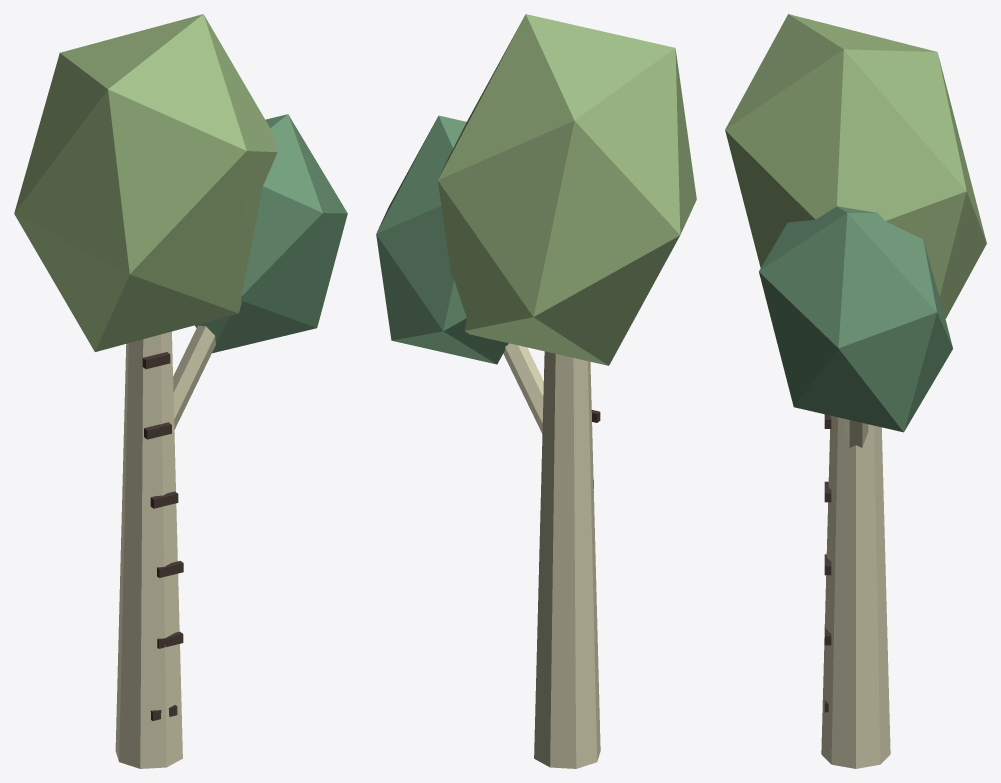
Rendered from briza.glb.
3 renders of one model, left to right at view 1: azimuth 30°, elevation 25°; view 2: azimuth 150°, elevation 25°; view 3: azimuth 270°, elevation 25°, orthographic.
Visible parts, largest first — view 1: material_9ebc85, material_ddd9b8, material_6d9978, material_483b36; view 2: material_9ebc85, material_ddd9b8, material_6d9978; view 3: material_9ebc85, material_6d9978, material_ddd9b8, material_483b36.
Boxes of the visible parts, x1=… form: material_9ebc85: x1=14, y1=14, x2=277, y2=351; material_ddd9b8: x1=115, y1=325, x2=215, y2=768; material_6d9978: x1=195, y1=114, x2=347, y2=353; material_483b36: x1=142, y1=352, x2=183, y2=720; material_9ebc85: x1=438, y1=14, x2=696, y2=365; material_ddd9b8: x1=503, y1=343, x2=600, y2=768; material_6d9978: x1=376, y1=115, x2=508, y2=364; material_9ebc85: x1=725, y1=14, x2=986, y2=318; material_6d9978: x1=759, y1=206, x2=952, y2=432; material_ddd9b8: x1=821, y1=415, x2=890, y2=768; material_483b36: x1=824, y1=414, x2=831, y2=712.
Bounding box in the file's own units: 2.19 × 4.88 × 1.59.
